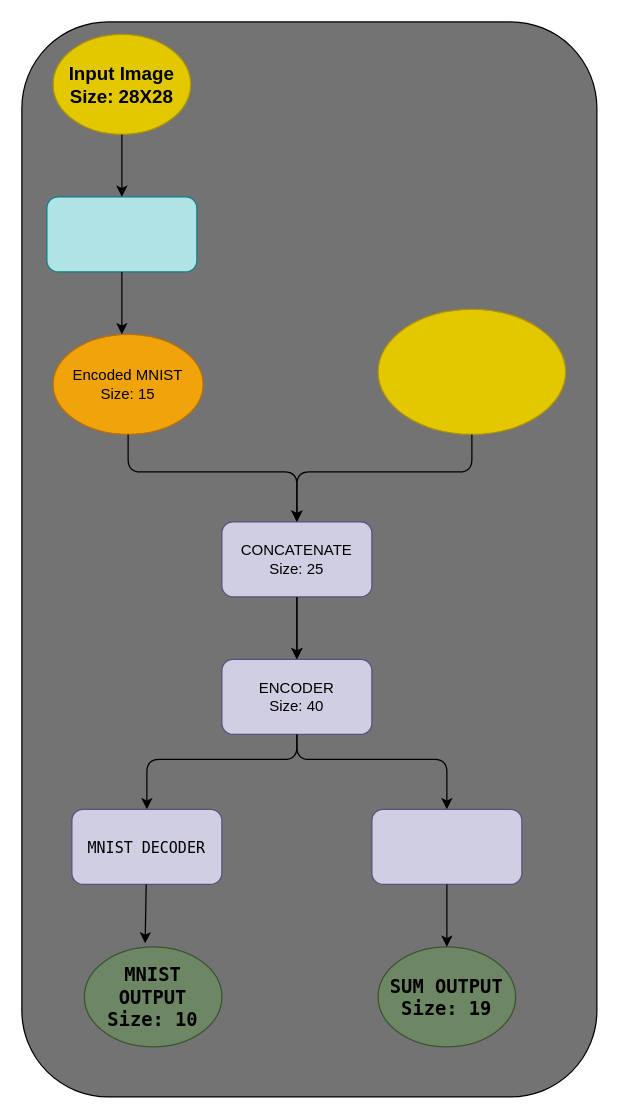
The diagram is 619 pixels wide and 1119 high, and some of its shapes have lost their labels. Each missing label, with the centre of its shape:
"Encoded Random Number Size: 10" goes at [471,371].
"MNIST ENCODER" goes at [121,234].
"SUM DECODER" goes at [446,846].
